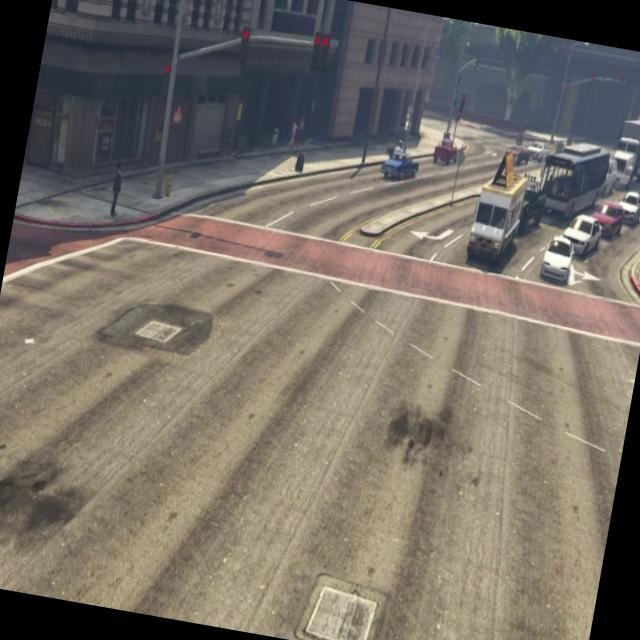Red-Signal: (300, 16, 340, 90), (150, 42, 179, 102), (228, 13, 256, 71)
